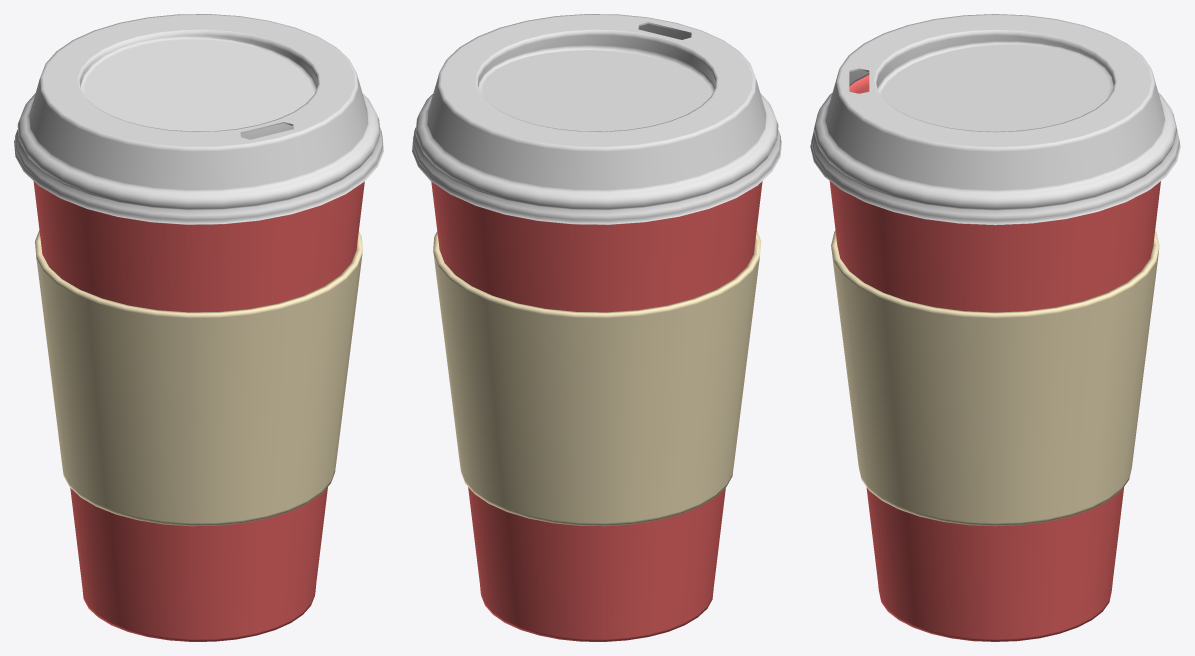
Rendered from coffee_cup-transformed.glb.
3 renders of one model, left to right at view 1: azimuth 30°, elevation 25°; view 2: azimuth 150°, elevation 25°; view 3: azimuth 270°, elevation 25°, orthographic.
Visible parts, largest first — view 1: Object_9, Object_7, Object_5; view 2: Object_9, Object_7, Object_5; view 3: Object_9, Object_7, Object_5.
Part boxes in pixels (x1,y1,x2,y2): Object_9: (35,230,362,526); Object_7: (14,14,383,224); Object_5: (33,181,364,641); Object_9: (433,230,761,526); Object_7: (412,14,781,224); Object_5: (431,181,762,641); Object_9: (831,230,1159,526); Object_7: (810,14,1180,225); Object_5: (829,75,1160,641).
Size of the model in its own units: 0.7439 by 1.13 by 0.7439.
